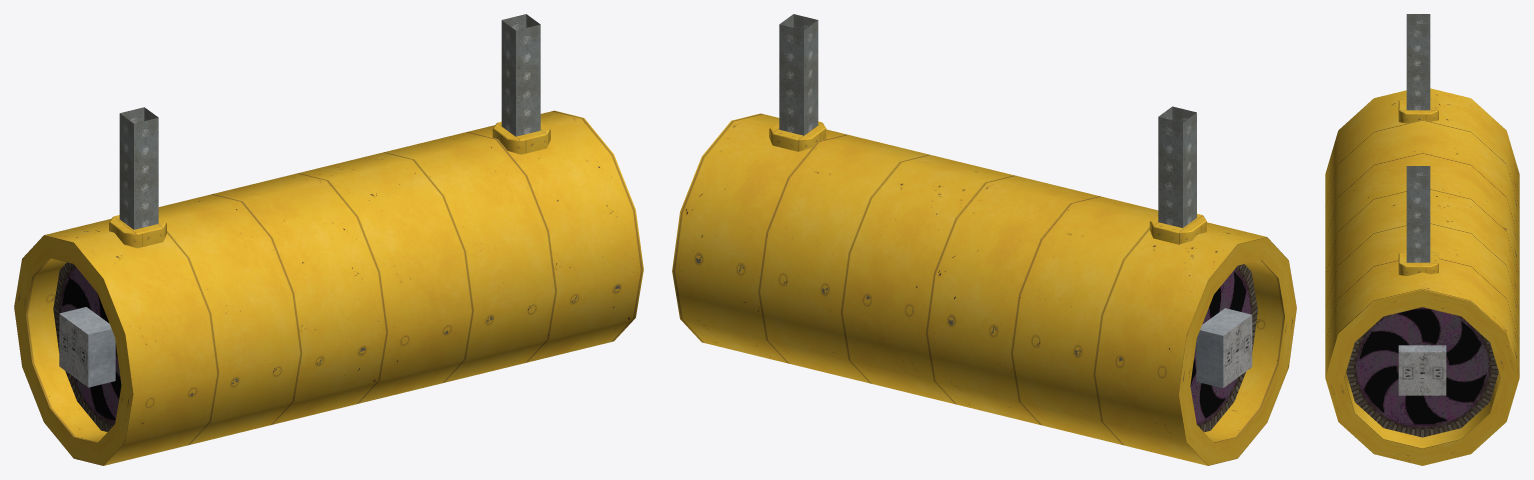
File: Ob_UnderPropellor_RC.fbx
The picture shows the model from 3 angles, left to right: view 1: azimuth 30°, elevation 25°; view 2: azimuth 150°, elevation 25°; view 3: azimuth 270°, elevation 25°; orthographic projection. The views are drawn at different scales.
Parts seen in each view (by area): view 1: Ob_UnderPropellor_RC; view 2: Ob_UnderPropellor_RC; view 3: Ob_UnderPropellor_RC.
Part boxes in pixels (x1,y1,x2,y2): Ob_UnderPropellor_RC: [14, 14, 643, 465]; Ob_UnderPropellor_RC: [672, 14, 1296, 465]; Ob_UnderPropellor_RC: [1325, 14, 1519, 465].
Size of the model in its own units: 1618 by 998 by 655.
